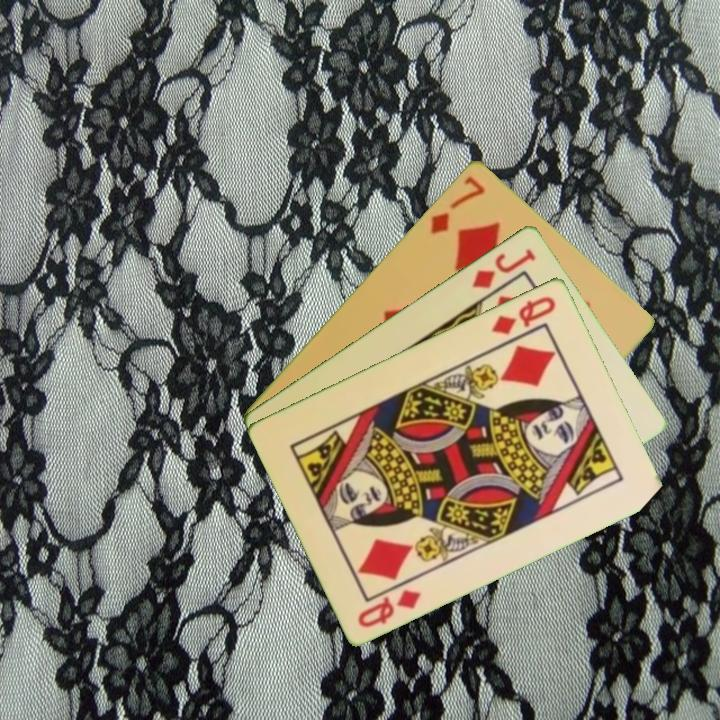7d: (426, 172, 488, 237)
Jd: (468, 244, 539, 291)
Qd: (488, 291, 559, 338), (354, 585, 424, 630)
